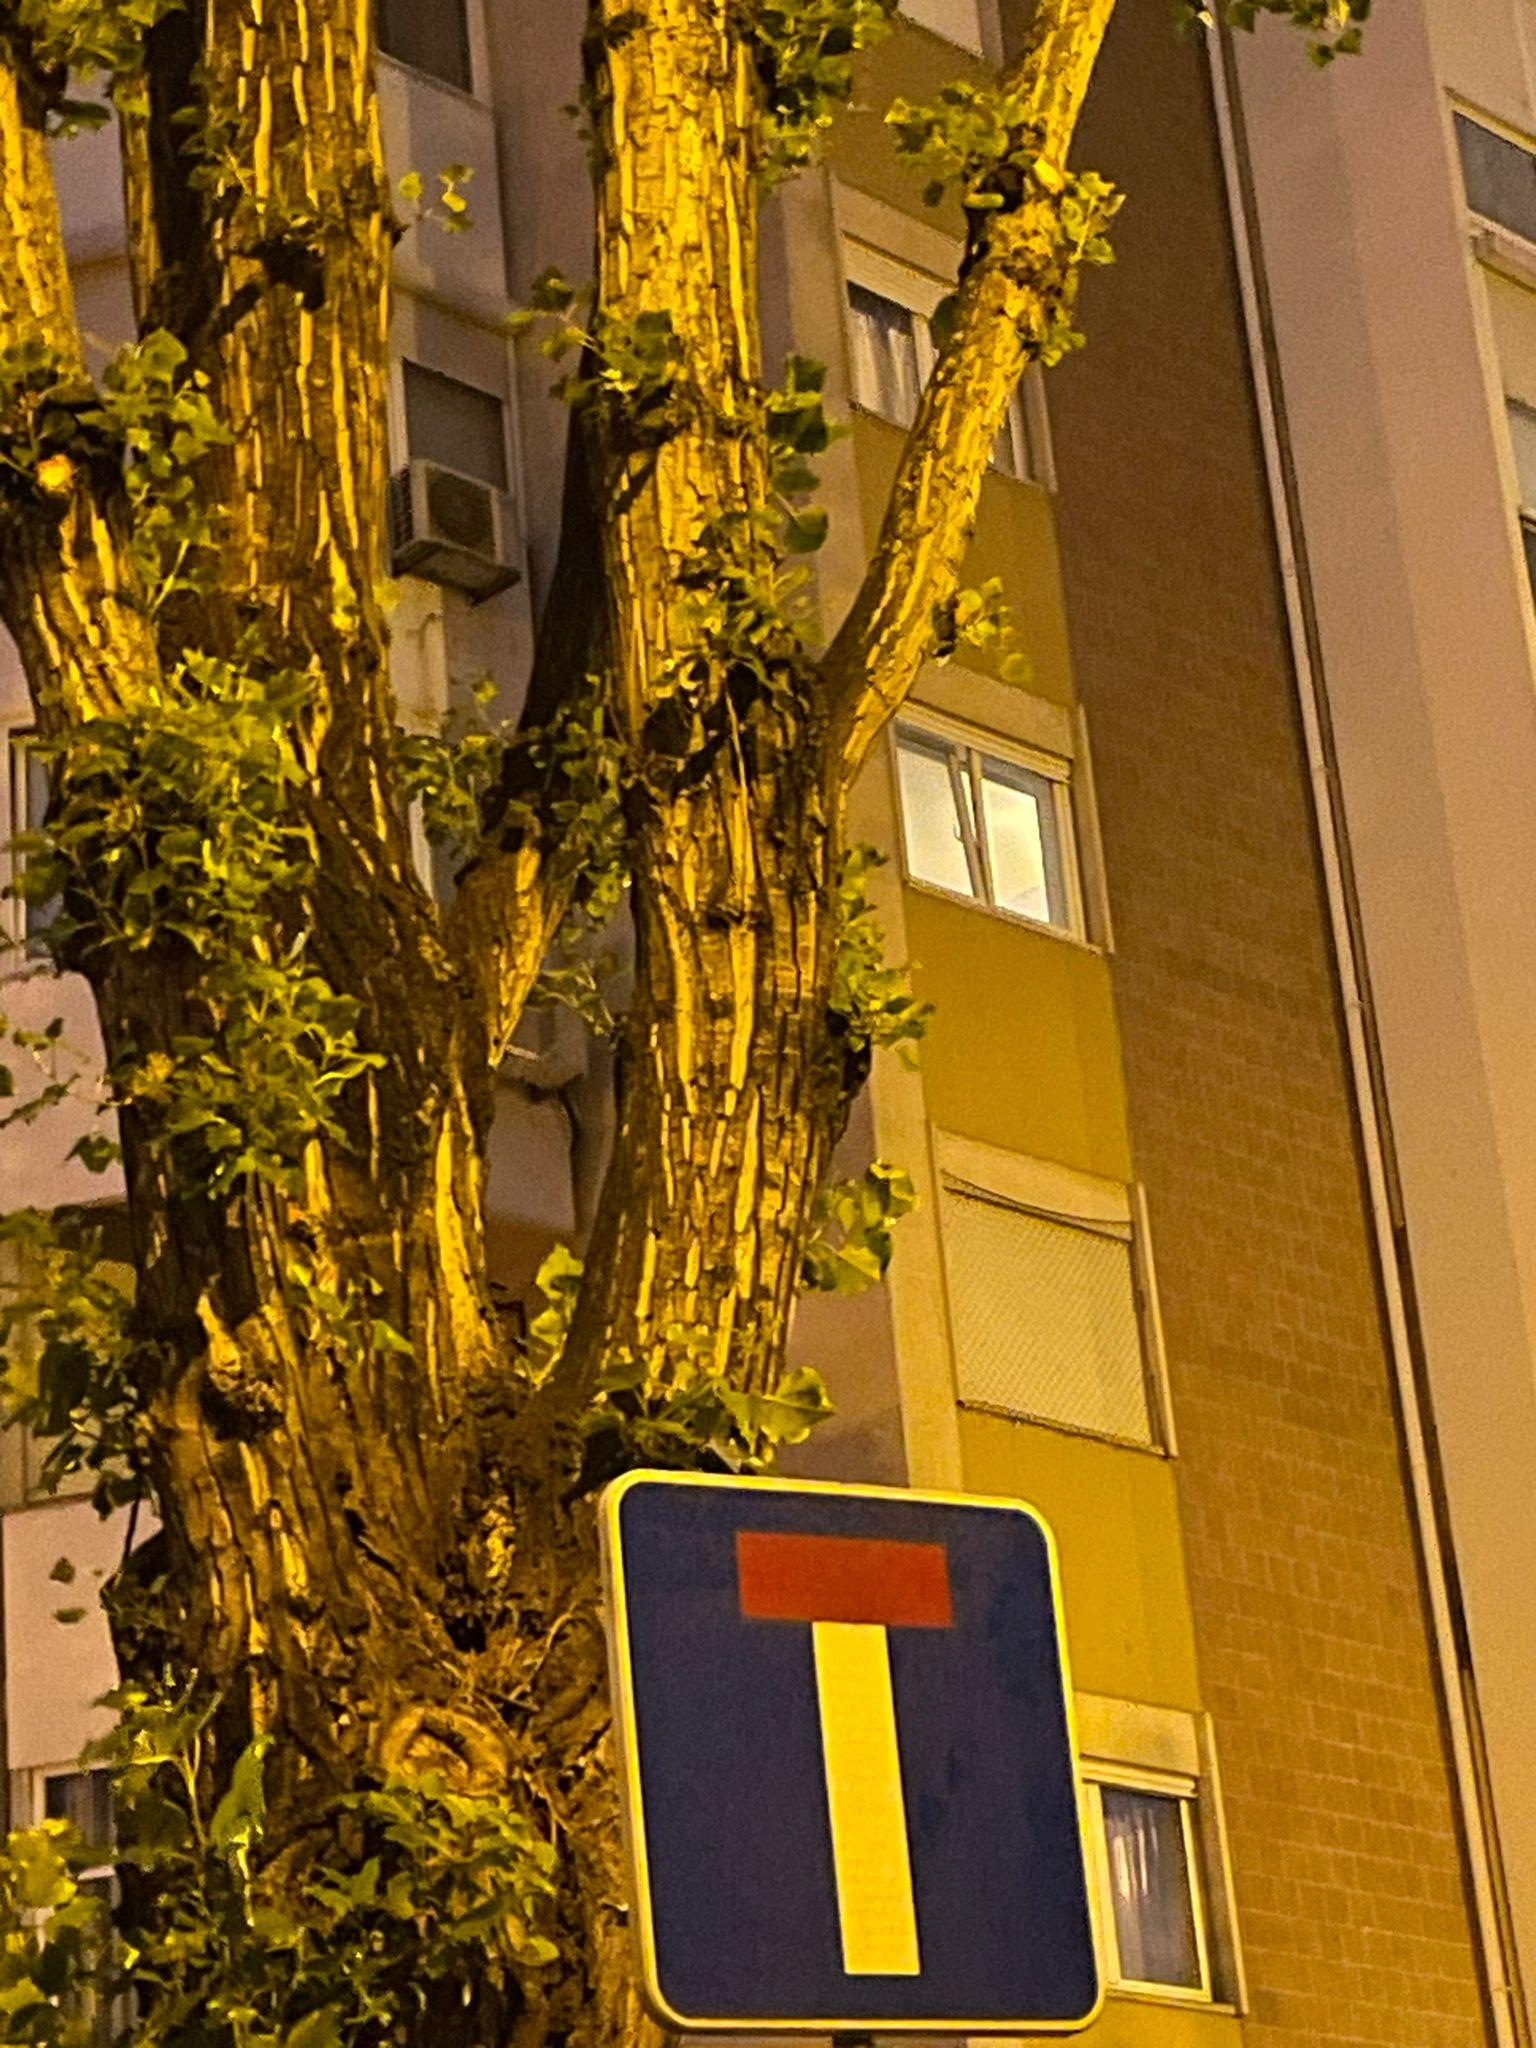via publica sem saida: (570, 1476, 1146, 2030)
